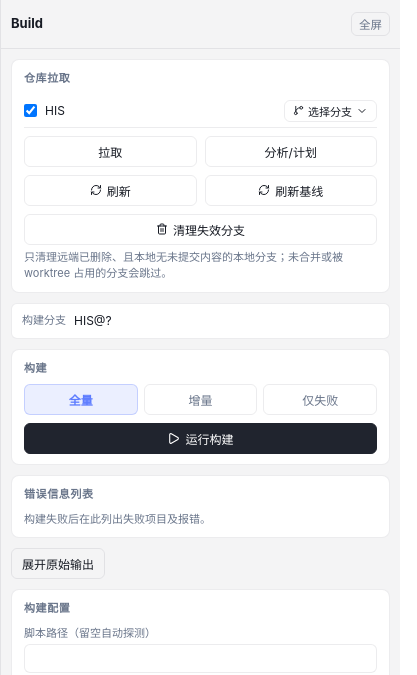
Test: BuildPanel branch switching › does not re-run full repo discovery after switching a single branch, and keeps hidden submodules hidden
Expected: the text "选择分支" is shown, [308,102,352,118]
Open the branch menu and switch to "main".
Click the button "选择分支" at (330, 110), box [284,100,377,122]
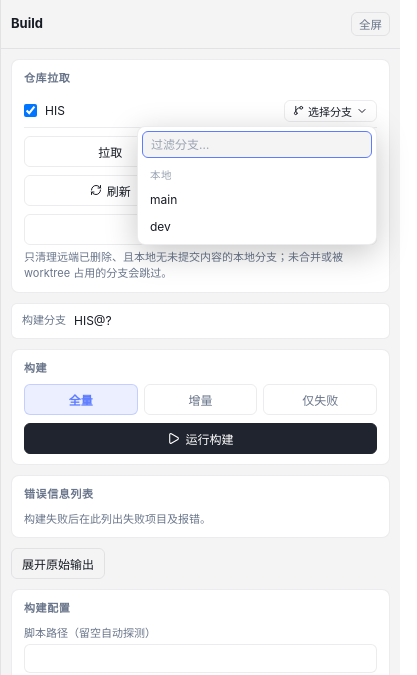
Click the button "main" at (257, 200), box [142,186,372,213]
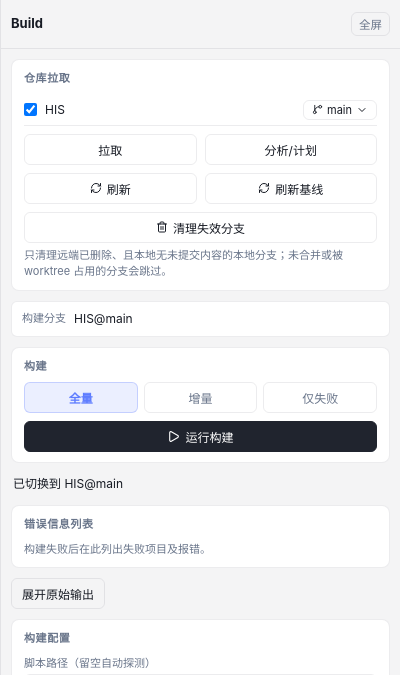
Expected: the text "main" is shown, [327,102,352,116]
